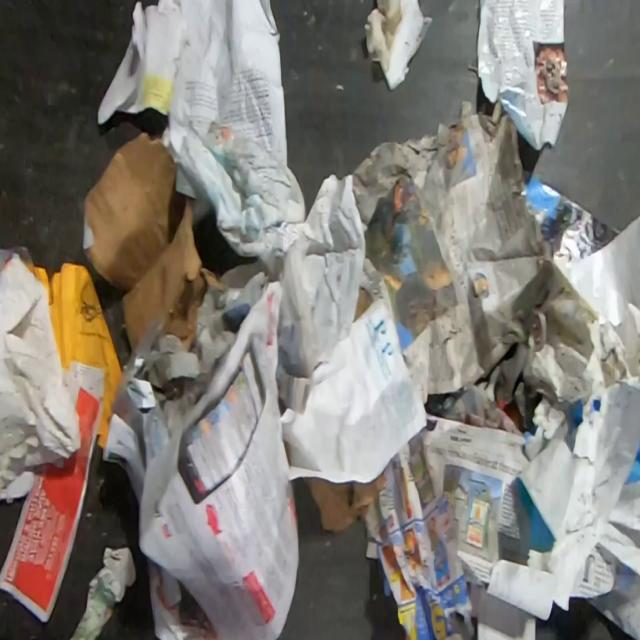cardboard: (514, 264, 640, 556), (82, 130, 226, 353), (119, 287, 237, 481), (302, 476, 380, 534), (355, 284, 374, 319)
soft_plastic: (0, 244, 35, 273)
